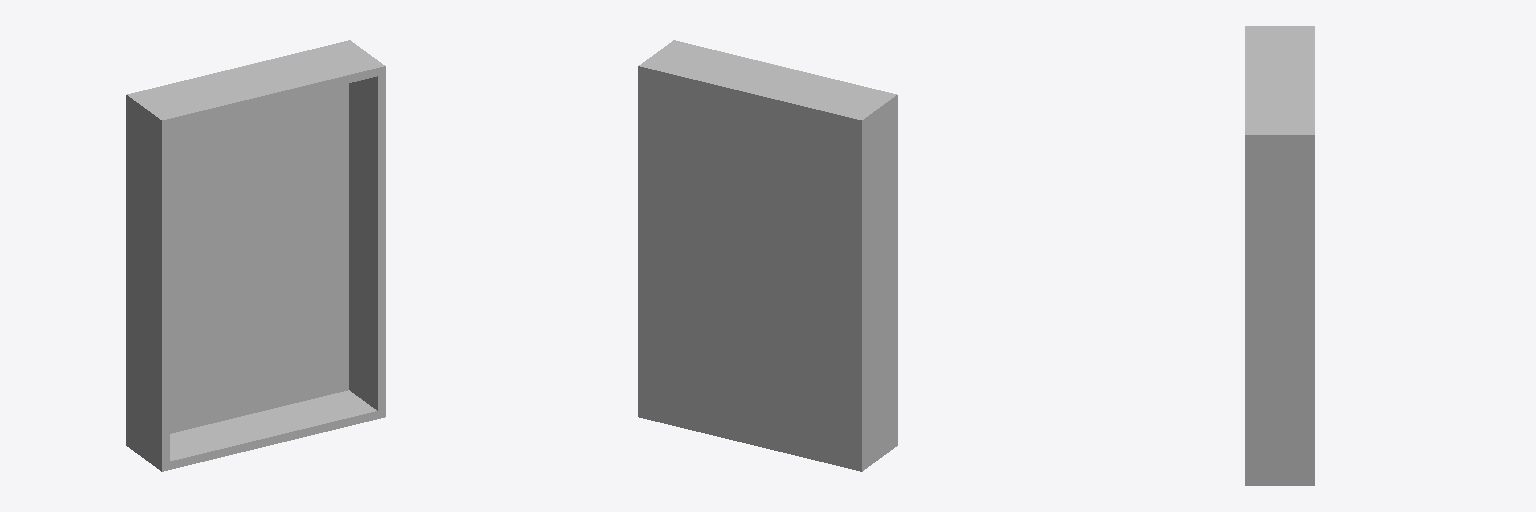
The model's file is tank.obj.
3 renders of one model, left to right at view 1: azimuth 30°, elevation 25°; view 2: azimuth 150°, elevation 25°; view 3: azimuth 270°, elevation 25°, orthographic.
Visible parts, largest first — view 1: tank; view 2: tank; view 3: tank.
Boxes of the visible parts, x1,y1,x2,y2 form: tank: [126, 40, 385, 471]; tank: [638, 40, 897, 471]; tank: [1245, 26, 1314, 485].
Size of the model in its own units: 9.09 by 13.65 by 2.5.